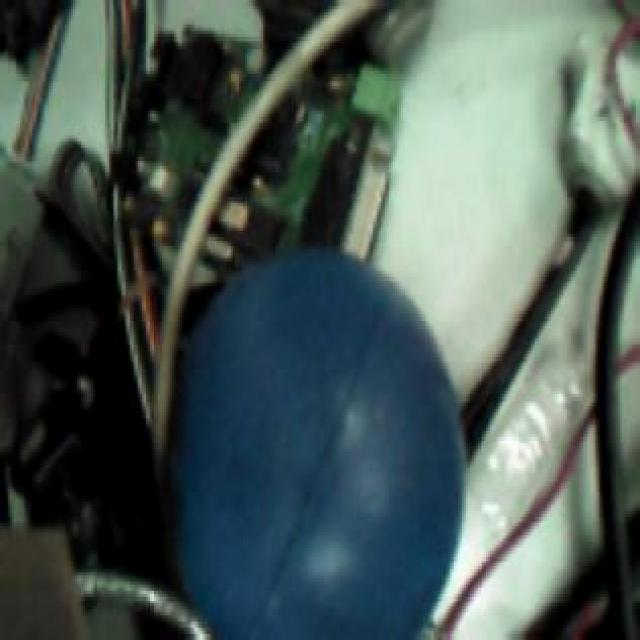BallPurple: (163, 250, 468, 640)
